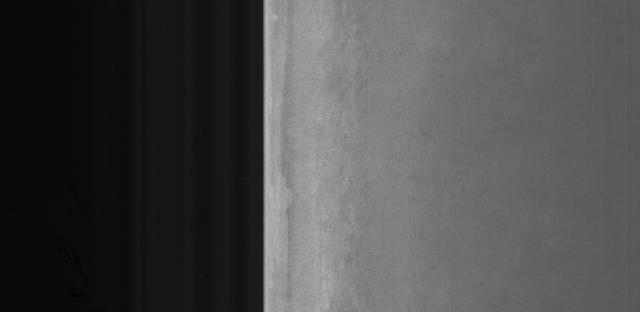silk_spot: (320, 37, 392, 268)
